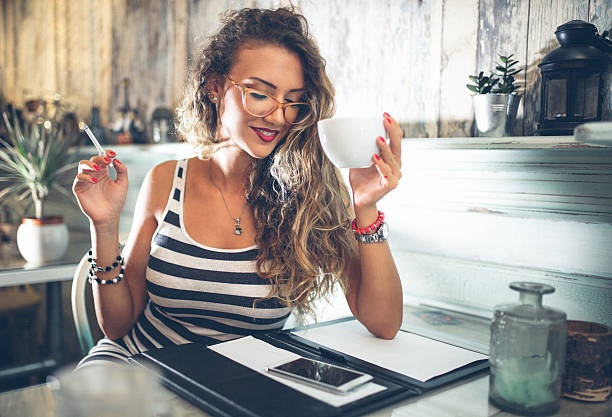sigaretta: (79, 118, 110, 165)
